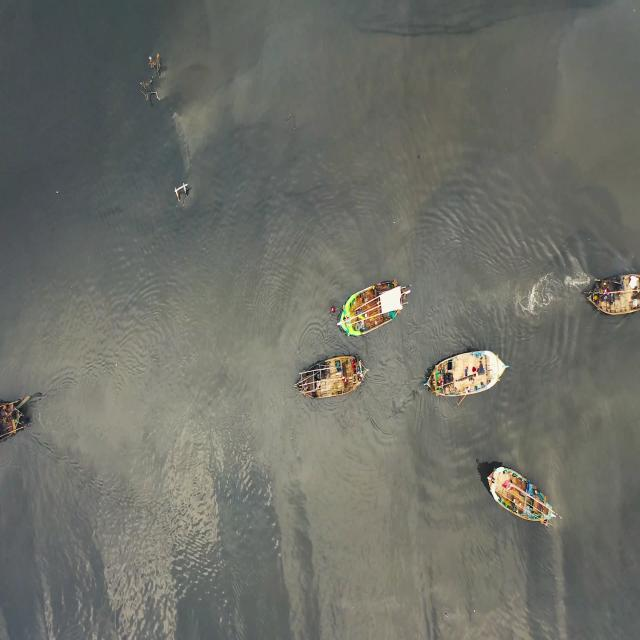ship: (486, 462, 561, 534), (338, 274, 410, 339), (421, 352, 514, 397), (296, 357, 369, 401), (588, 270, 638, 320)
